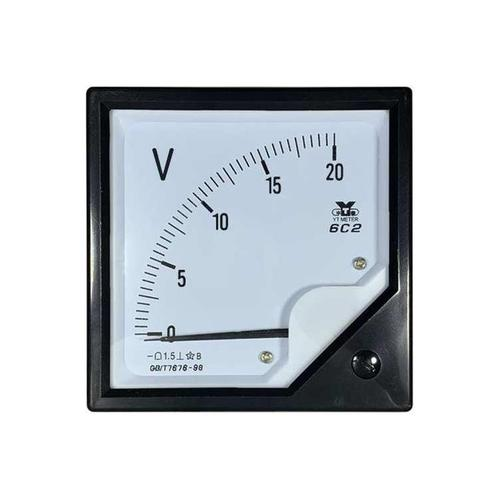pointer: (110, 108, 389, 392)
